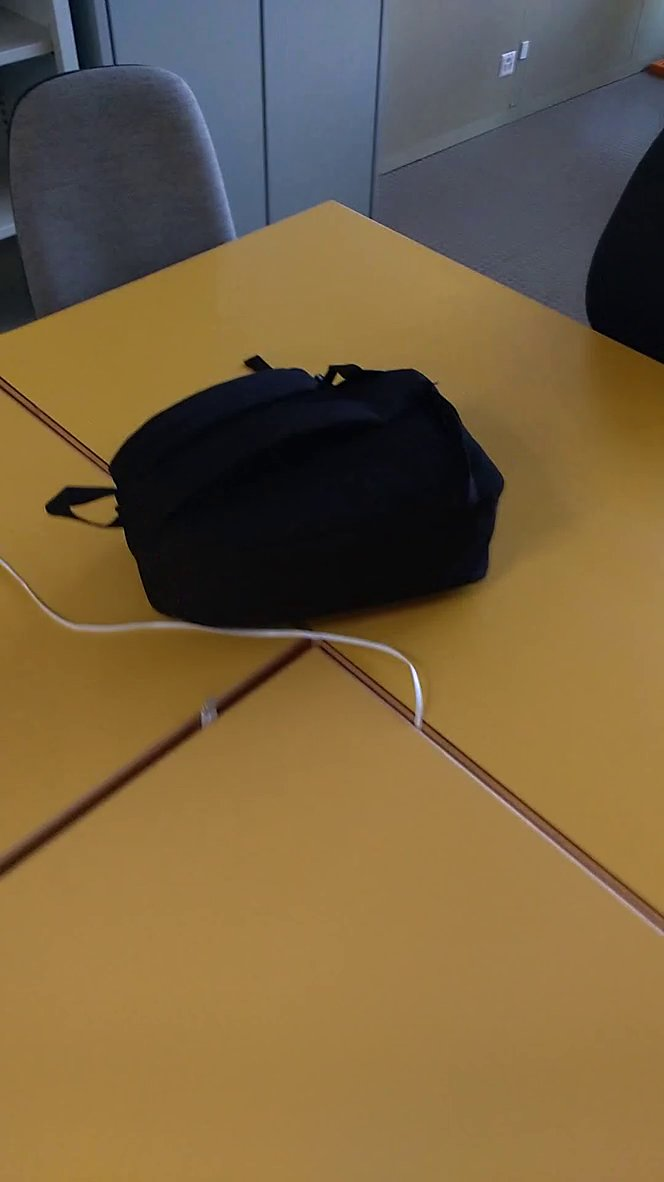bag: (30, 341, 512, 641)
chair: (2, 51, 252, 329)
